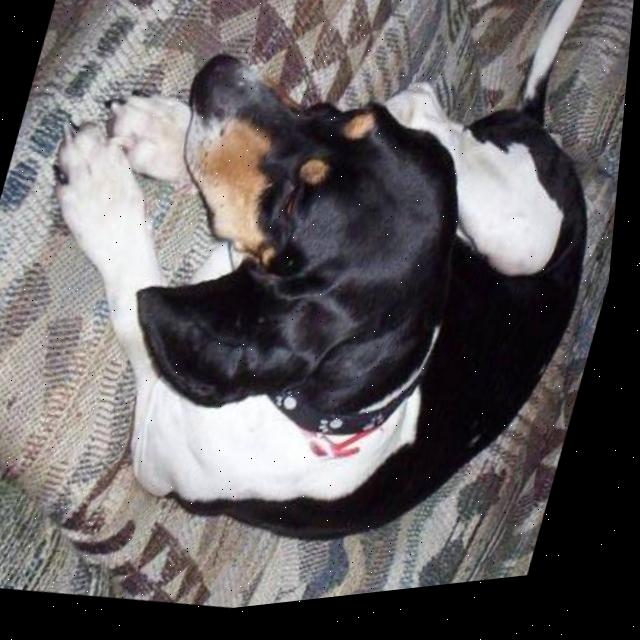dogs: (0, 0, 638, 640)
